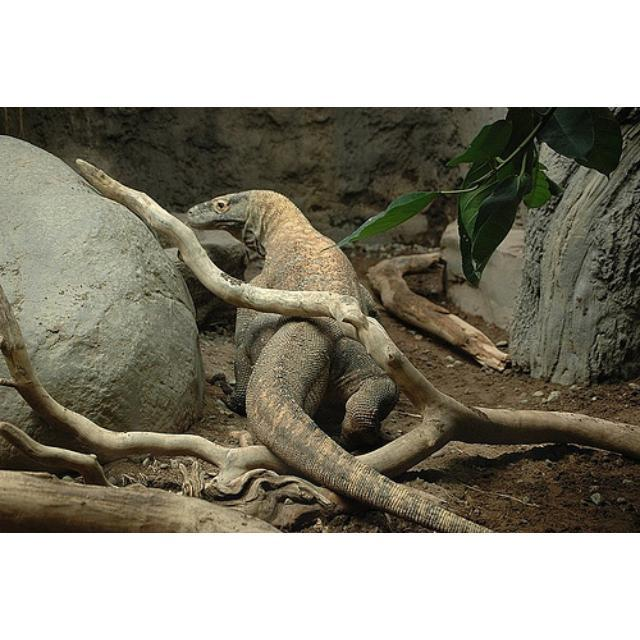KomodoDragon: (181, 183, 503, 531)
